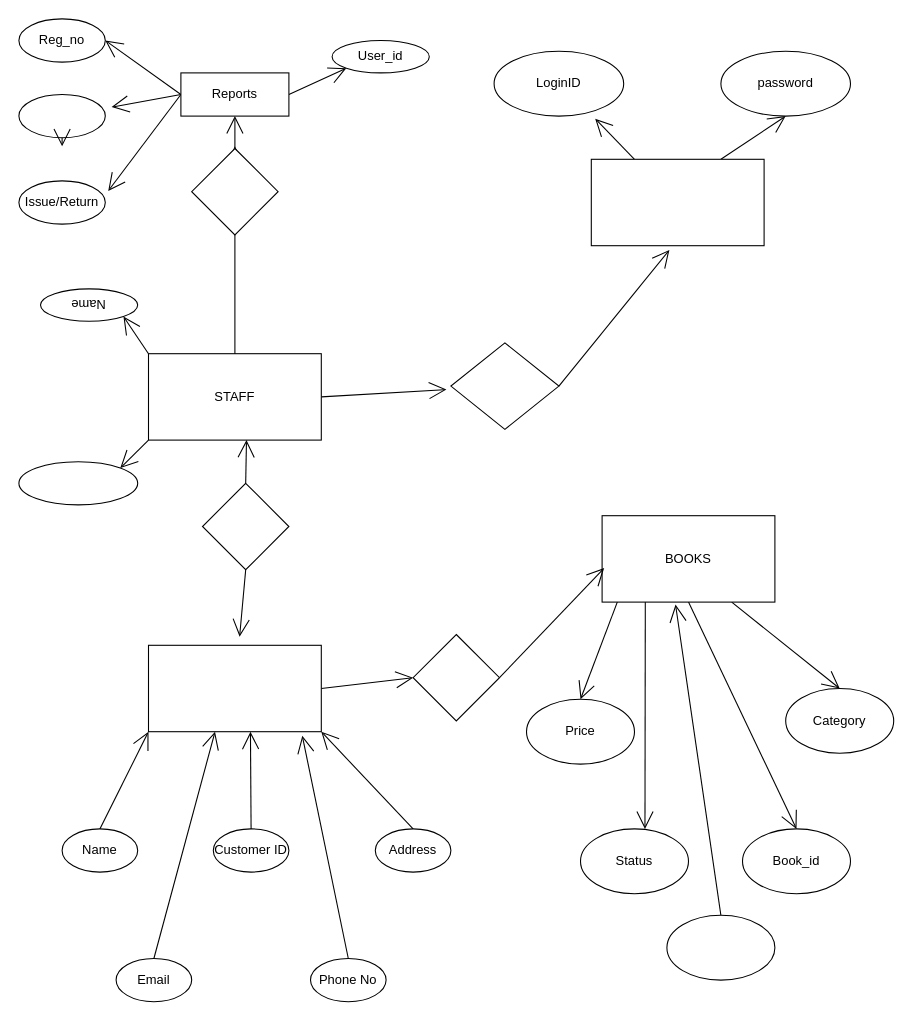
This 913x1021 diagram has some shape labels left out. The shapes that lost their labels are listed below. From the top down, each one's centre as x and y in pixels, then its label:
At pixel 61 115: "Book_no".
At pixel 234 191: "Manages".
At pixel 677 202: "AUTHENTICATION SYSTEM".
At pixel 504 385: "Login".
At pixel 78 483: "Staff_id".
At pixel 245 526: "Tracks".
At pixel 234 688: "READERS".
At pixel 456 677: "Borrows".
At pixel 720 947: "Author".
